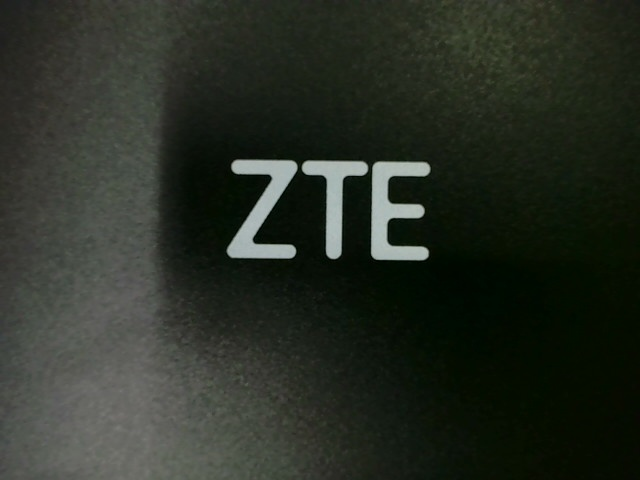AN_ZTE: (211, 148, 446, 282)
